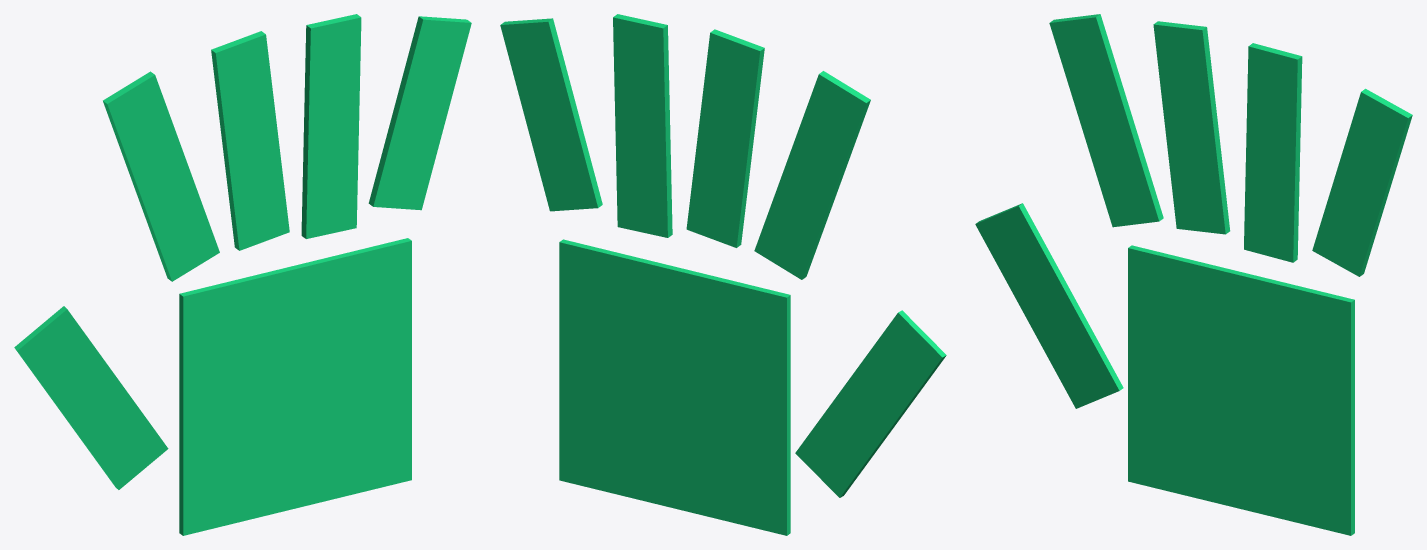
Rendered from Fingerprint.fbx.
3 renders of one model, left to right at view 1: azimuth 30°, elevation 25°; view 2: azimuth 150°, elevation 25°; view 3: azimuth 330°, elevation 25°, orthographic. The views are drawn at different scales.
Visible parts, largest first — view 1: Würfel, Würfel.002, Würfel.005, Würfel.003, Würfel.004, Würfel.001; view 2: Würfel, Würfel.002, Würfel.005, Würfel.003, Würfel.004, Würfel.001; view 3: Würfel, Würfel.002, Würfel.004, Würfel.003, Würfel.005, Würfel.001.
Part boxes in pixels (x1,y1,x2,y2): Würfel: (179,238,411,535); Würfel.002: (301,14,361,238); Würfel.005: (14,306,168,489); Würfel.003: (211,31,289,250); Würfel.004: (103,71,219,281); Würfel.001: (368,16,471,210); Würfel: (559,239,790,535); Würfel.002: (613,14,672,237); Würfel.005: (795,310,946,497); Würfel.003: (686,29,764,247); Würfel.004: (754,71,870,279); Würfel.001: (500,18,602,211); Würfel: (1128,245,1354,535); Würfel.002: (1244,43,1302,262); Würfel.004: (1049,14,1163,227); Würfel.003: (1153,21,1230,234); Würfel.005: (975,203,1123,408); Würfel.001: (1312,88,1412,276).
Bounding box in the file's own units: 312 × 322 × 15.19.
